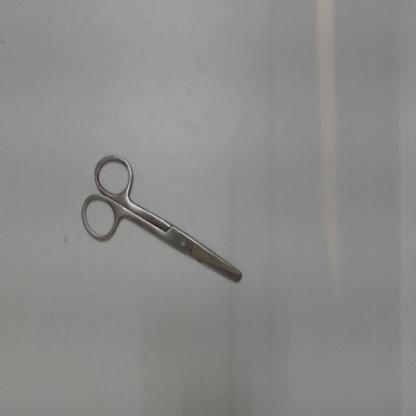Dressing Scissors: (73, 137, 253, 290)
